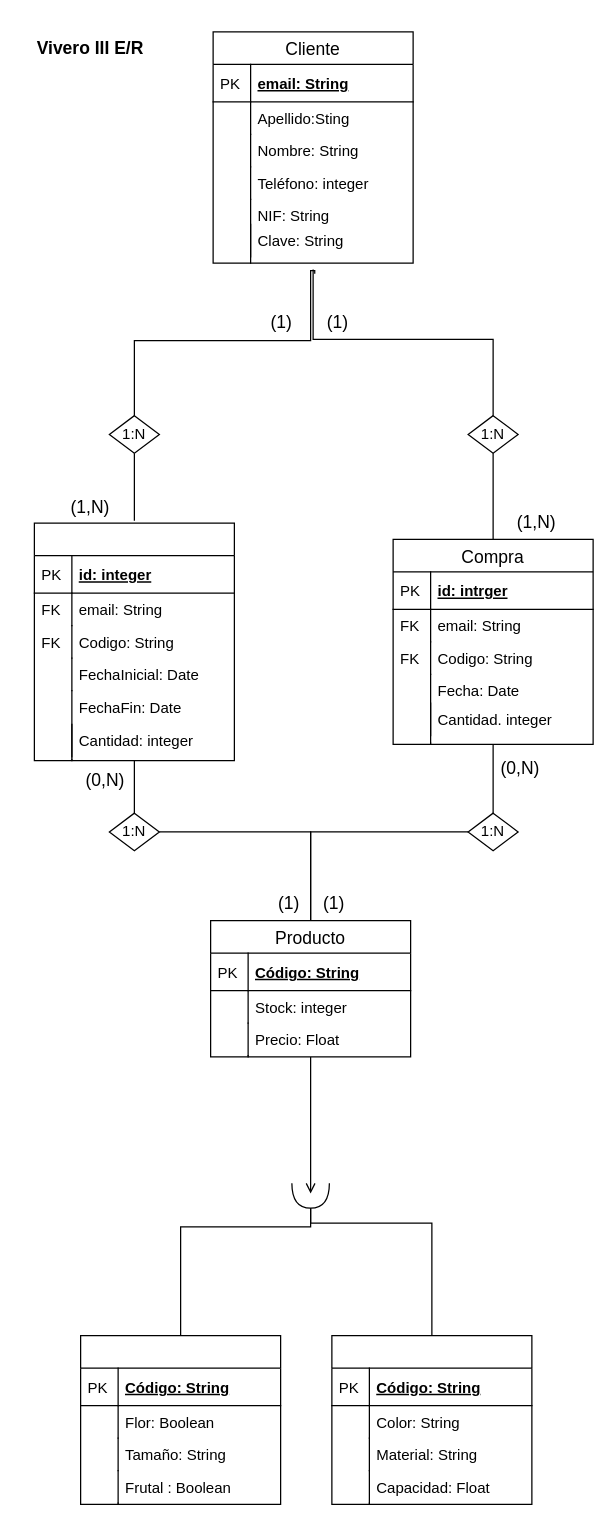
Image size: 615x1528. Some labels were removed from this diagram. Here are the shapes that lost their labels. From the top down, the box of each, then its label:
(33, 522, 234, 761): Alquiler
(79, 1334, 281, 1504): Planta
(331, 1334, 532, 1504): Maceta
